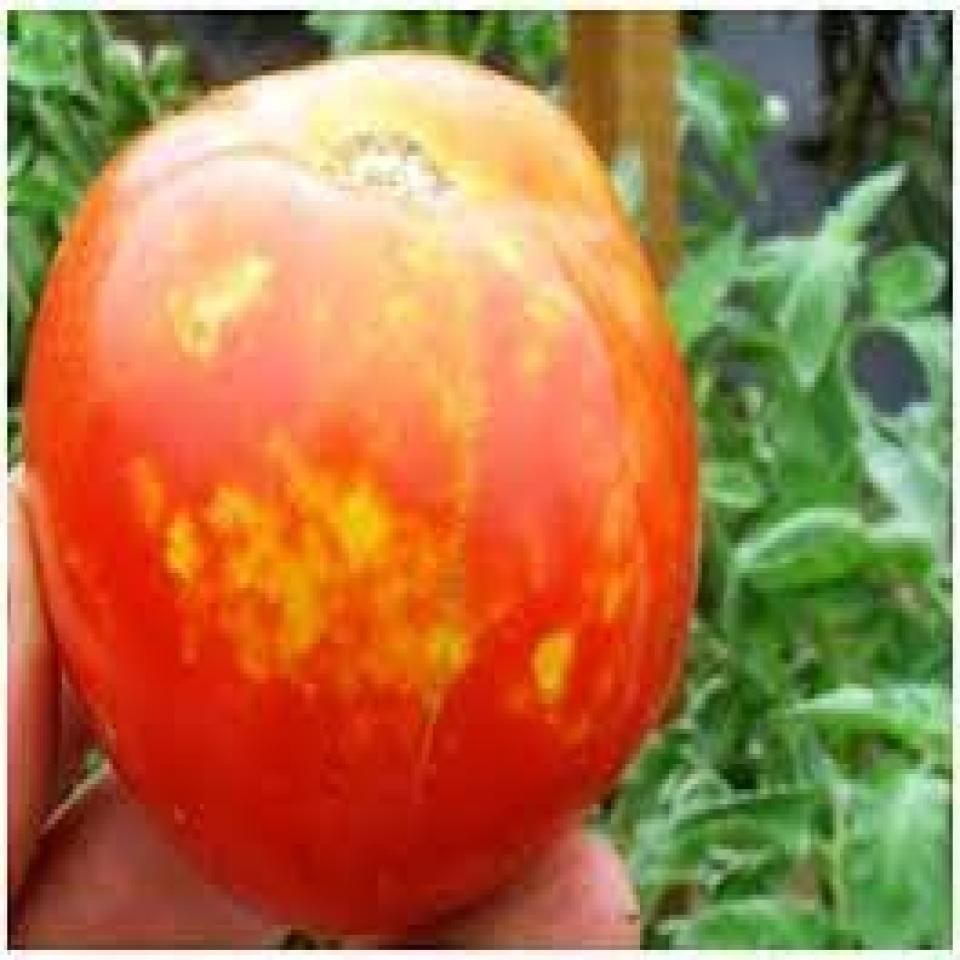Spotted wilt Virus: (25, 44, 702, 949)
